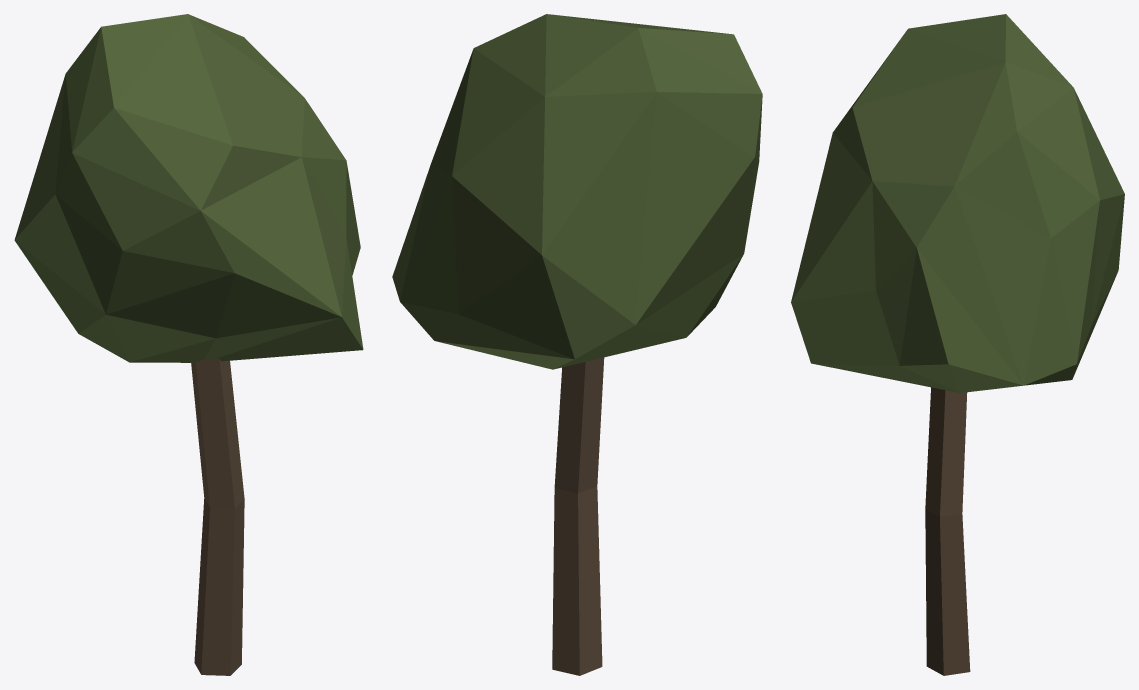
File: tree.glb
The picture shows the model from 3 angles, left to right: view 1: azimuth 30°, elevation 25°; view 2: azimuth 150°, elevation 25°; view 3: azimuth 270°, elevation 25°; orthographic projection. The views are drawn at different scales.
Parts seen in each view (by area): view 1: SM_Env_Tree_02; view 2: SM_Env_Tree_02; view 3: SM_Env_Tree_02.
Boxes of the visible parts, x1,y1,x2,y2 form: SM_Env_Tree_02: (14,14,363,675); SM_Env_Tree_02: (392,14,762,675); SM_Env_Tree_02: (791,14,1124,675).
Bounding box in the file's own units: 2.15 × 4.28 × 2.12.
1 material, 1 textured.
